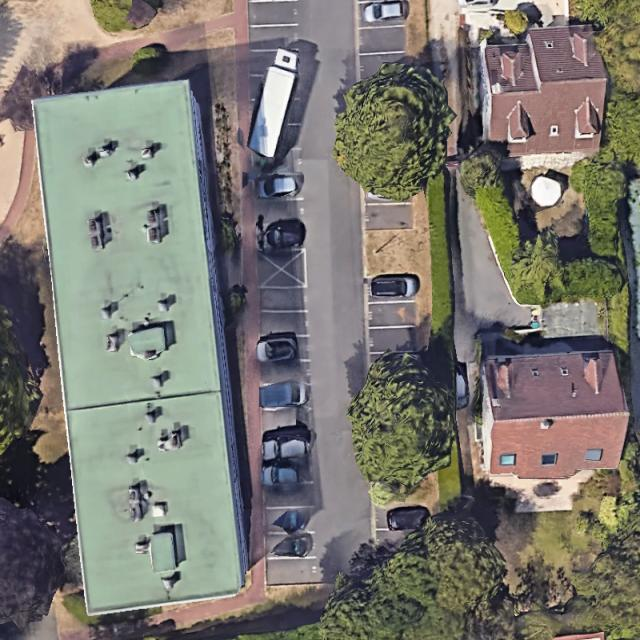immeuble: (31, 78, 253, 615), (479, 350, 631, 480), (477, 24, 612, 157)
